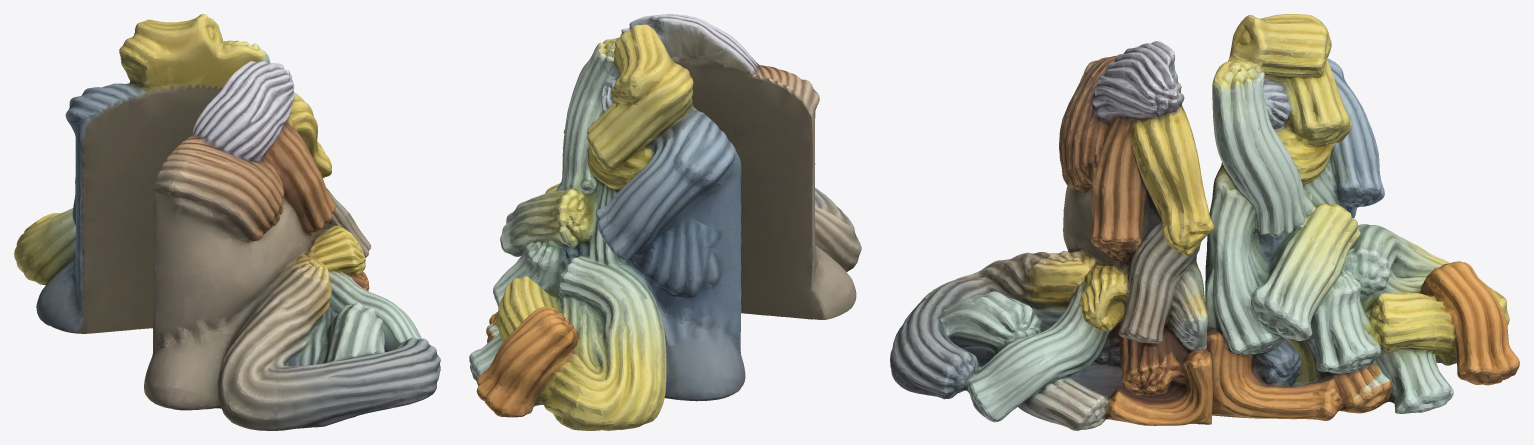
File: 05_2_js_brq_bookend1.glb
3 views of the same model, side by side, from view 1: azimuth 30°, elevation 25°; view 2: azimuth 150°, elevation 25°; view 3: azimuth 270°, elevation 25° (orthographic). The views are drawn at different scales.
Parts seen in each view (by area): view 1: tripo_node_09d7d14c-59d6-4259-911f-496c4eb315b4; view 2: tripo_node_09d7d14c-59d6-4259-911f-496c4eb315b4; view 3: tripo_node_09d7d14c-59d6-4259-911f-496c4eb315b4.
Boxes of the visible parts, x1,y1,x2,y2 form: tripo_node_09d7d14c-59d6-4259-911f-496c4eb315b4: [14, 14, 440, 430]; tripo_node_09d7d14c-59d6-4259-911f-496c4eb315b4: [469, 14, 861, 430]; tripo_node_09d7d14c-59d6-4259-911f-496c4eb315b4: [890, 14, 1519, 430].
Bounding box in the file's own units: 0.1416 × 0.16 × 0.2646.
1 material, 1 textured.
